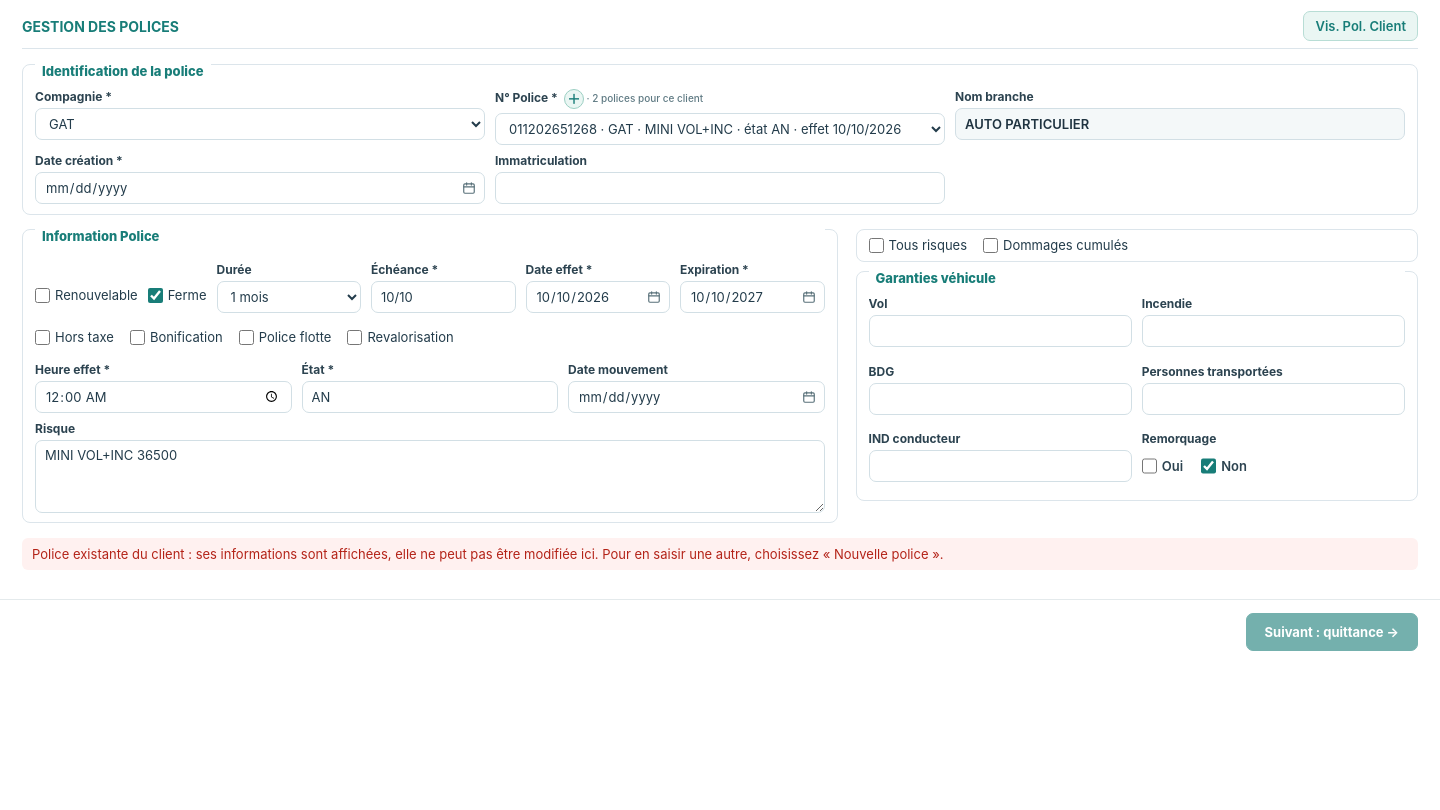
Test case: client with several polices: a list in N° police, the branch read from the number
The image size is (1440, 810).
Check: the field showing "AUTO PARTICULIER" is shown, box [955,108,1405,140]
Check: the text "Code branche" is not shown
Select "＋ Nouvelle police (saisir le numéro)" in the dropdown named "N° Police". click: (720,129)
box: [495,113,945,145]
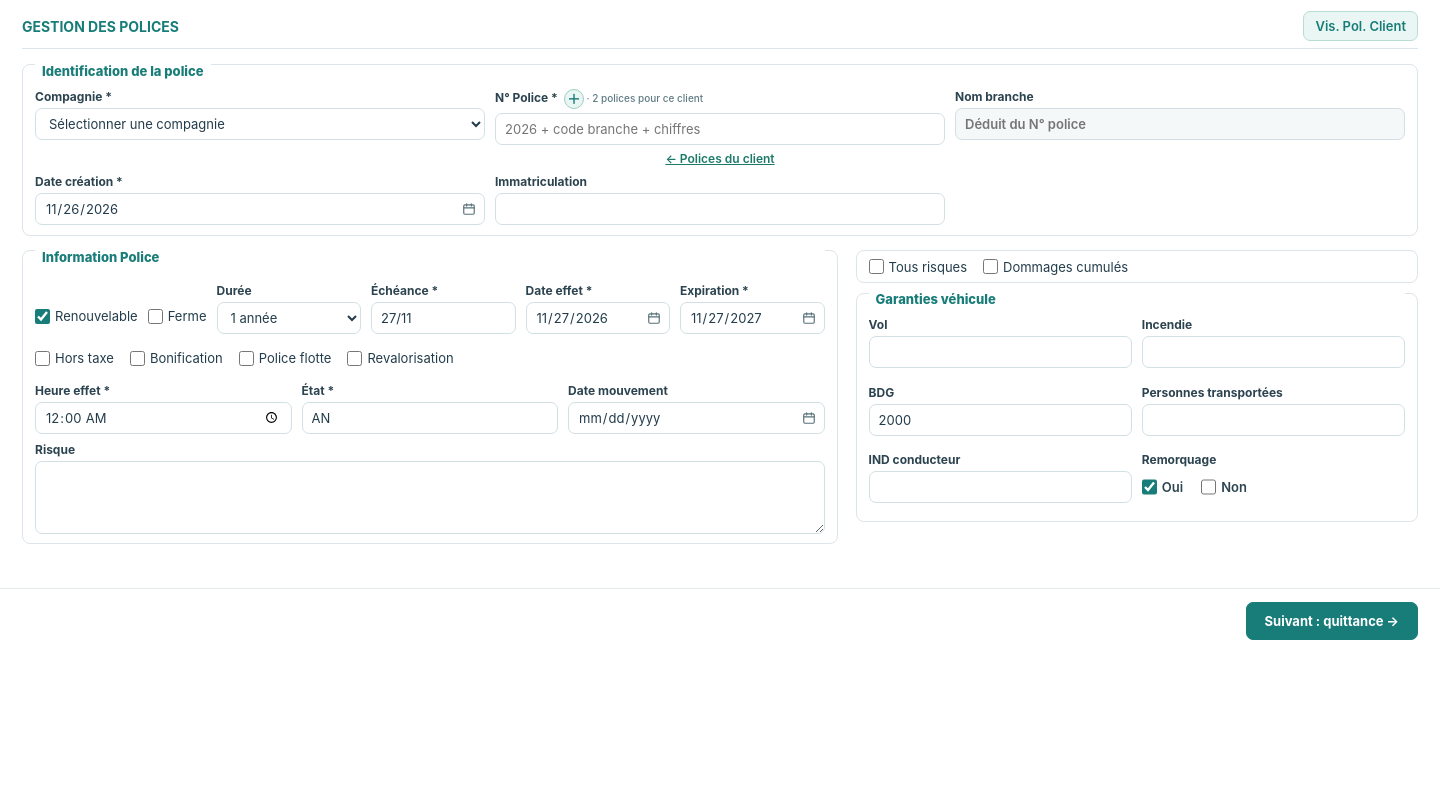
Check: the field named "N° Police" is empty, box [495,113,945,145]
Check: the button "← Polices du client" is shown, box [495,151,945,166]
